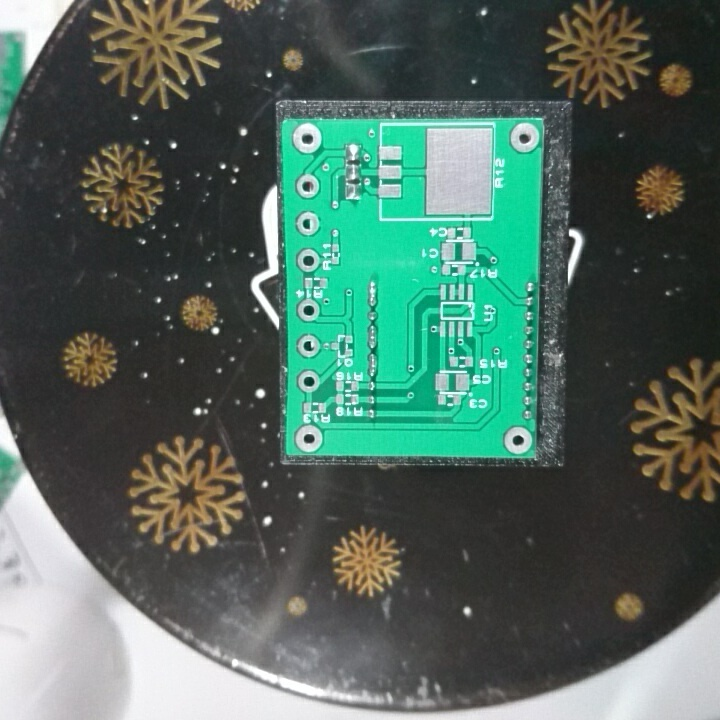F: (507, 120, 542, 154), (291, 122, 324, 156), (502, 426, 535, 457), (294, 423, 325, 453), (294, 209, 323, 238), (294, 173, 322, 200), (295, 332, 322, 360), (294, 247, 321, 273), (296, 368, 322, 395), (295, 295, 320, 323)
P: (365, 276, 382, 310), (363, 352, 383, 380), (365, 321, 382, 350)
